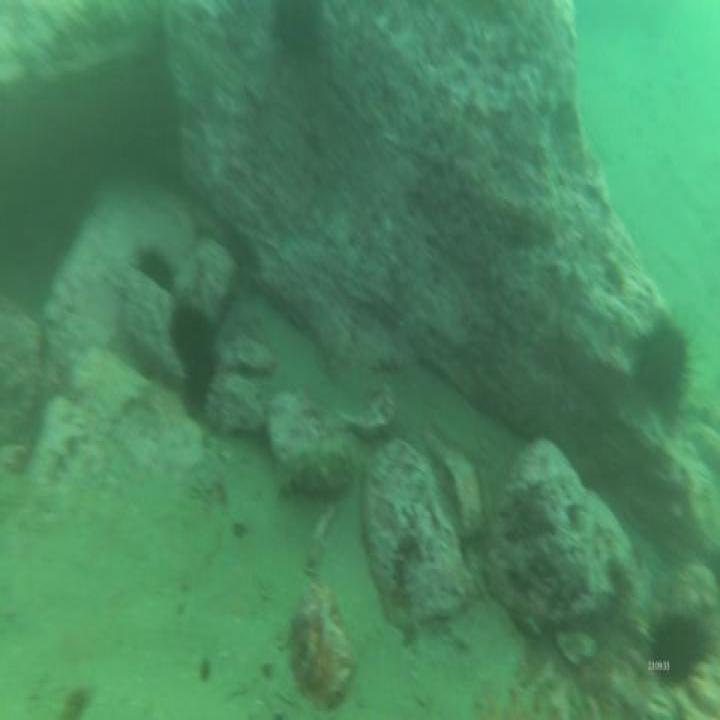echinus: (621, 304, 693, 427), (644, 592, 714, 690), (171, 295, 219, 395)
holothurian: (281, 426, 355, 492)
